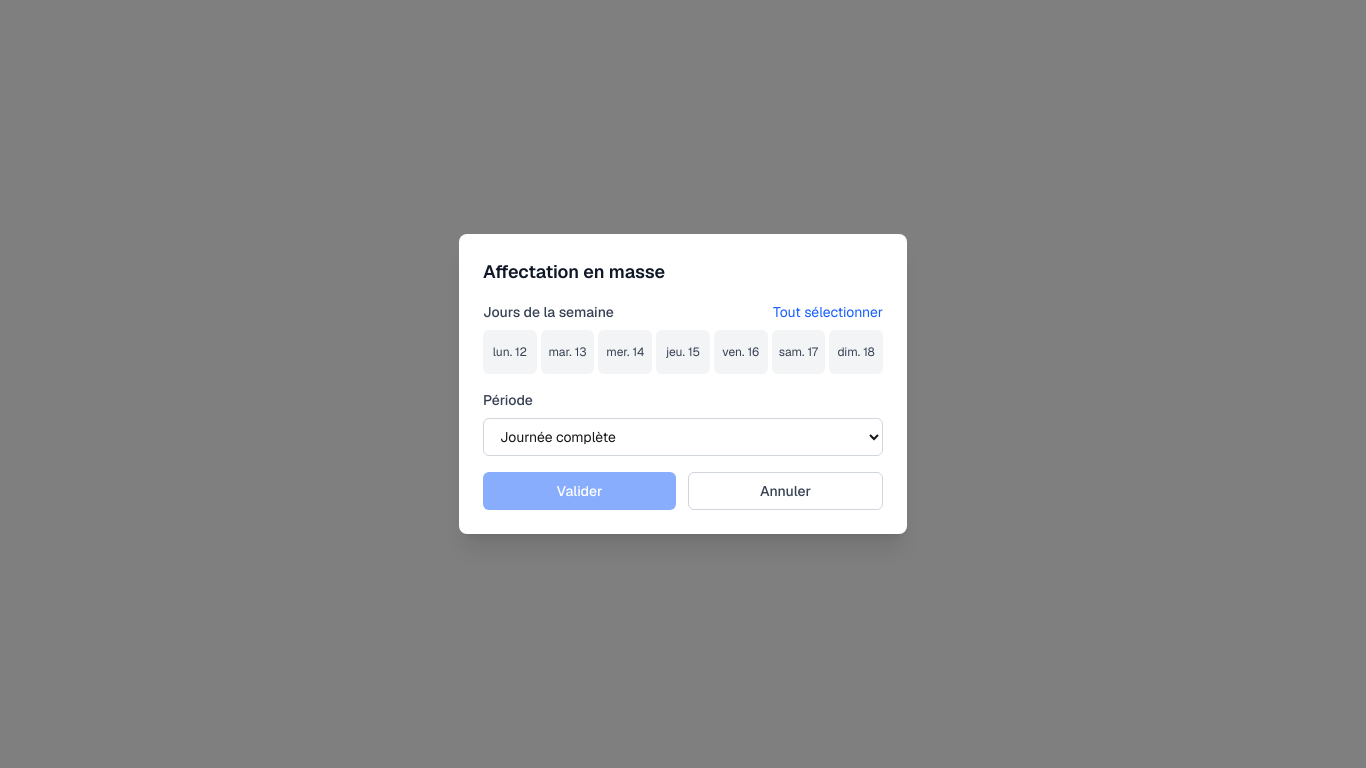
Test: ModalAffectationMultiJours › Tout sélectionner (AC: 3) › should deselect all days when "Tout désélectionner" is clicked
Sélectionner tout
Click the button "Tout sélectionner" at (828, 312), box [773,302,883,322]
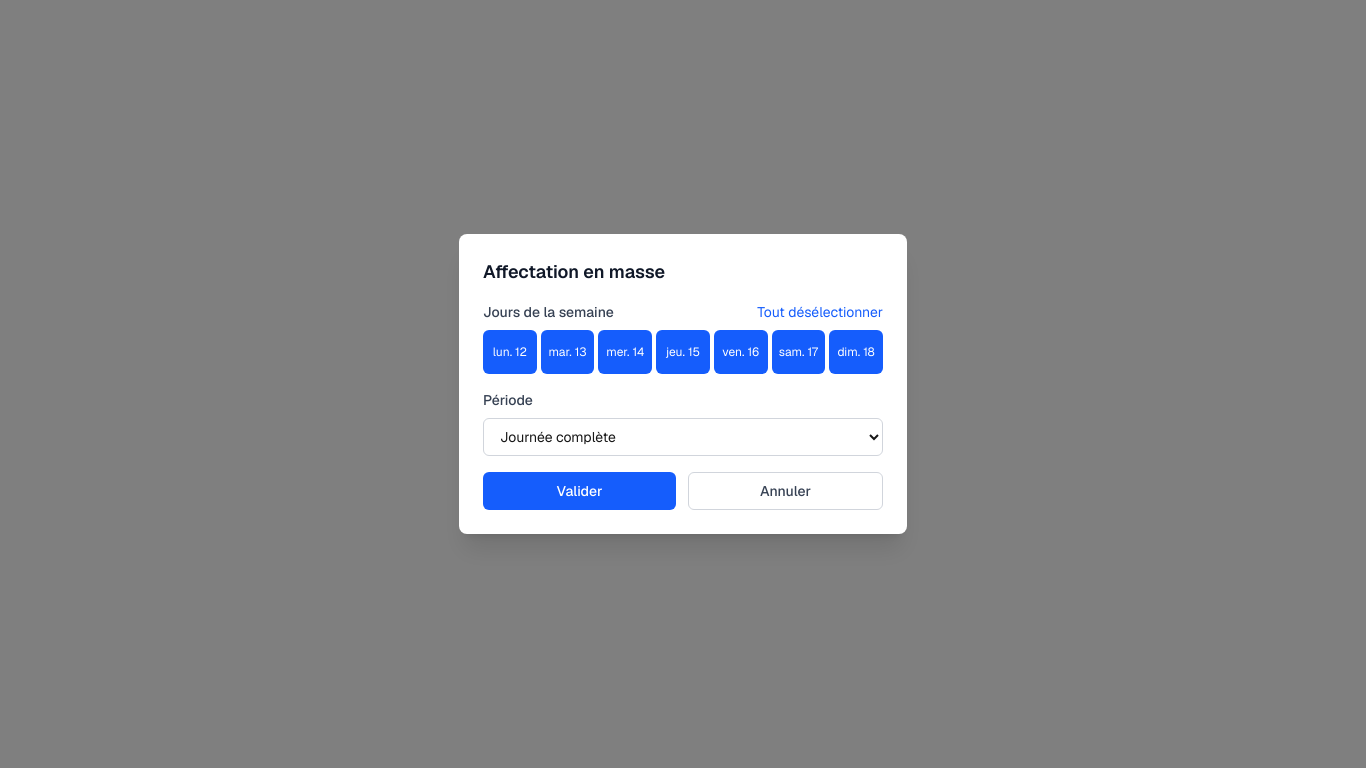
Expected: the button "Tout désélectionner" is shown
Désélectionner tout
Click the button "Tout désélectionner" at (820, 312), box [757,302,883,322]
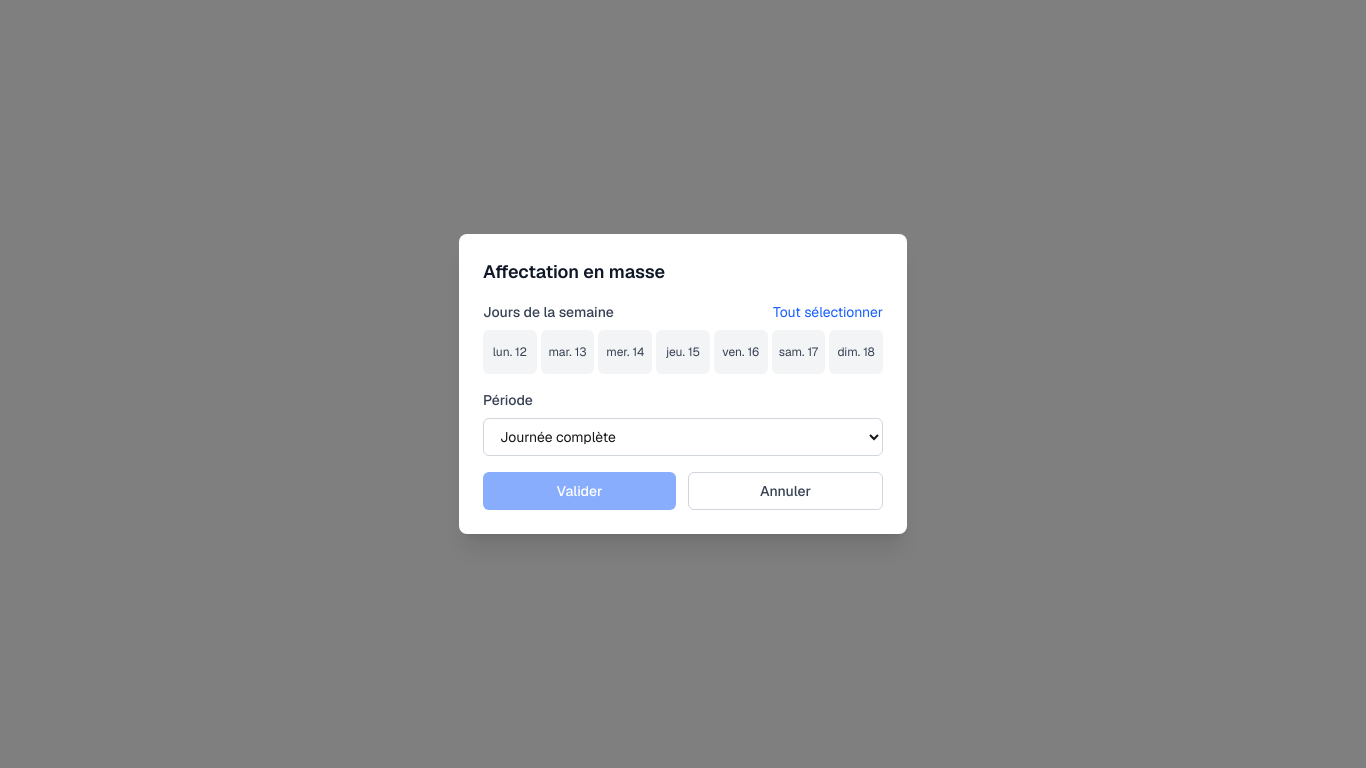
Expected: the button "Tout sélectionner" is shown, [773,302,883,322]
